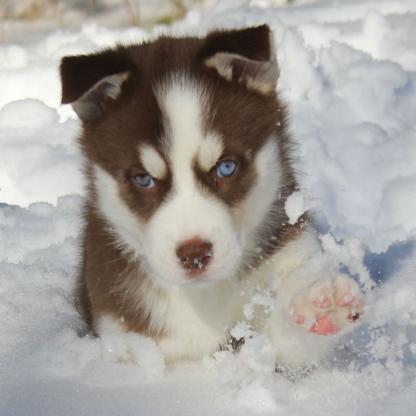dog: (37, 25, 363, 365)
